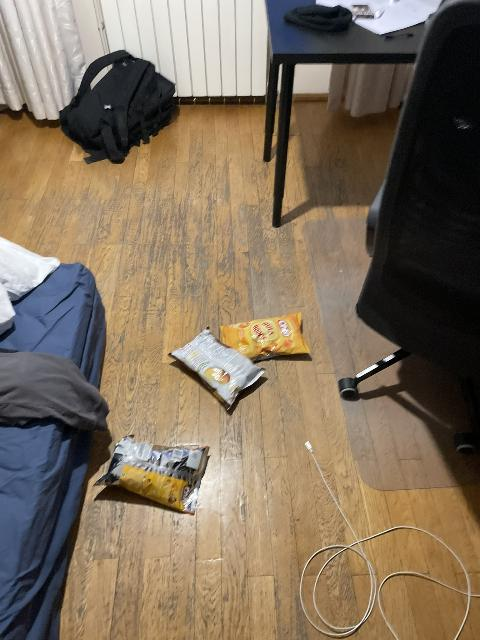Chio Cascaval 125g: (94, 436, 210, 514)
Chio Hula Hoops Cheese 70g: (221, 311, 311, 358)
Lays Beef Grilled Ribs 125g: (167, 326, 267, 410)
